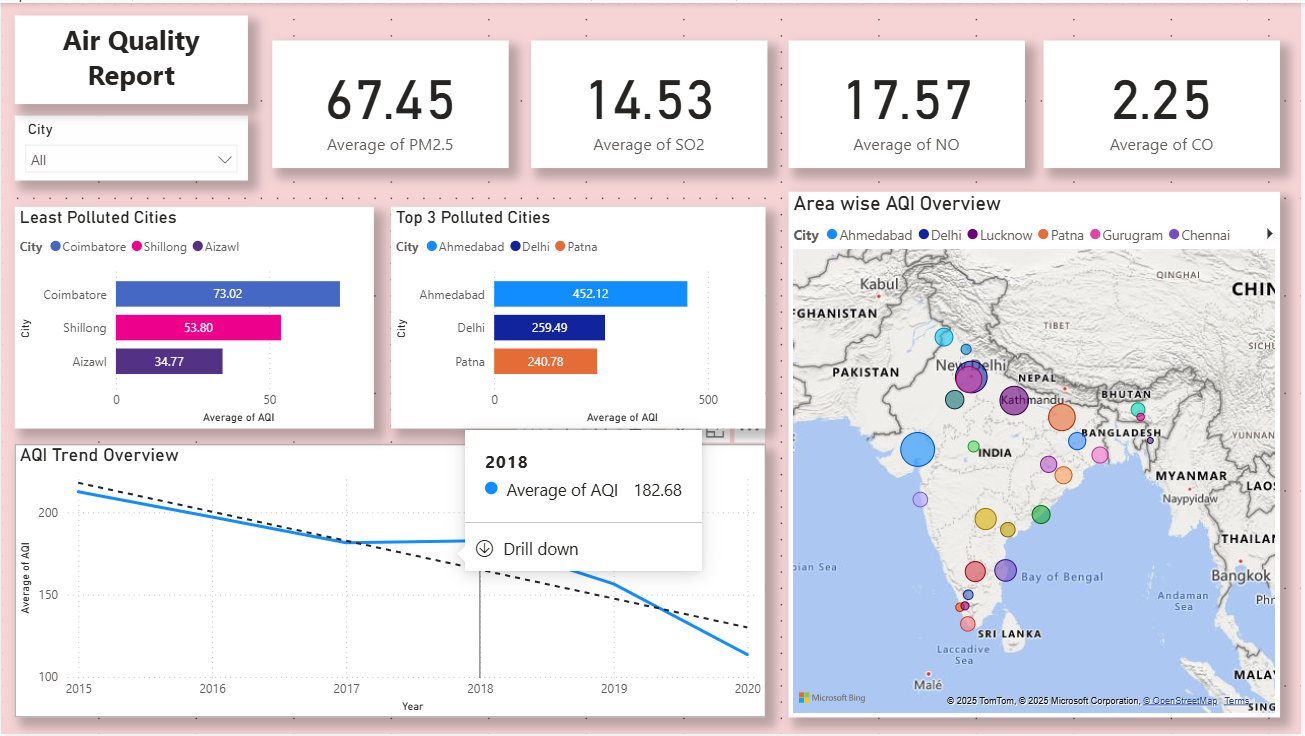

Layout of this report page (visuals, bound fields, positions):
{"tool":"powerbi","page":{"name":"Page 1","canvas":[1280,720],"ordinal":0},"visuals":[{"type":"lineChart","title":"AQI Trend Overview","fields":{"Category":["city_day (1).Date.Variation.Date Hierarchy.Year","city_day (1).Date.Variation.Date Hierarchy.Quarter","city_day (1).Date.Variation.Date Hierarchy.Month","city_day (1).Date.Variation.Date Hierarchy.Day"],"Y":["Avg(city_day (1).AQI)"]},"box":[13.3,434.3,739.5,269],"z":0},{"type":"slicer","fields":{"Values":["city_day (1).City"]},"box":[13.3,111,229.2,63.9],"z":1000},{"type":"barChart","title":"Top 3 Polluted Cities","fields":{"Category":["city_day (1).City"],"Y":["Avg(city_day (1).AQI)"],"Series":["city_day (1).City"]},"box":[383.6,200.3,369.2,218.4],"z":2000},{"type":"barChart","title":"Least Polluted Cities","fields":{"Category":["city_day (1).City"],"Y":["Avg(city_day (1).AQI)"],"Series":["city_day (1).City"]},"box":[13.3,200.3,353.5,218.4],"z":3000},{"type":"card","fields":{"Values":["Avg(city_day (1).CO)"]},"box":[1026.7,37.4,232.8,125.5],"z":4000},{"type":"card","fields":{"Values":["Avg(city_day (1).NO)"]},"box":[775.7,37.4,232.8,125.5],"z":4001},{"type":"card","fields":{"Values":["Avg(city_day (1).SO2)"]},"box":[522.4,37.4,232.8,125.5],"z":4002},{"type":"card","fields":{"Values":["Avg(city_day (1).PM2.5)"]},"box":[266.6,37.4,232.8,125.5],"z":4003},{"type":"map","title":"Area wise AQI Overview","fields":{"Category":["city_day (1).City"],"Size":["Sum(city_day (1).AQI)"],"Series":["city_day (1).City"]},"box":[775.7,185.8,483.8,517.6],"z":4004},{"type":"textbox","box":[13.3,12.1,229.2,86.9],"z":4005}]}

Visuals, with their boxes in screenshot pixels (x1, y1, x2, y2), scaled from the page's 1280x720 canvas onto the 1305x736 screenshot:
"AQI Trend Overview" lineChart: (left=14, top=444, right=768, bottom=719)
slicer - city_day (1).City: (left=14, top=113, right=247, bottom=179)
"Top 3 Polluted Cities" barChart: (left=391, top=205, right=768, bottom=428)
"Least Polluted Cities" barChart: (left=14, top=205, right=374, bottom=428)
card - Avg(city_day (1).CO): (left=1047, top=38, right=1284, bottom=167)
card - Avg(city_day (1).NO): (left=791, top=38, right=1028, bottom=167)
card - Avg(city_day (1).SO2): (left=533, top=38, right=770, bottom=167)
card - Avg(city_day (1).PM2.5): (left=272, top=38, right=509, bottom=167)
"Area wise AQI Overview" map: (left=791, top=190, right=1284, bottom=719)
textbox: (left=14, top=12, right=247, bottom=101)
